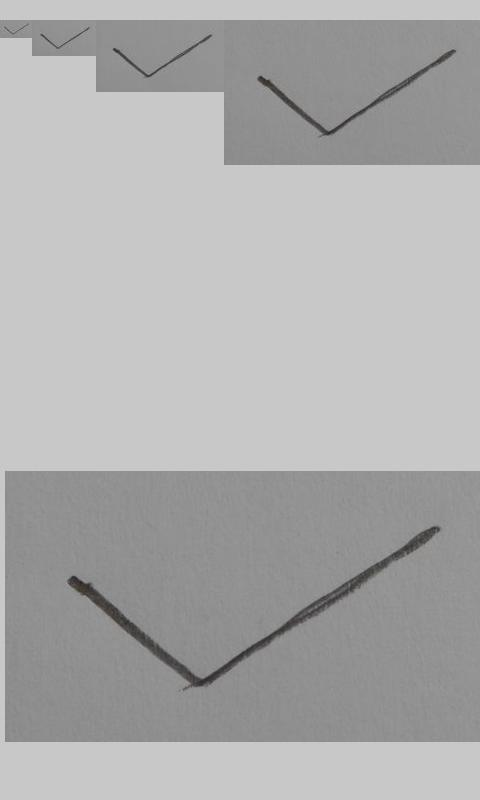check_box: (67, 526, 440, 689), (257, 49, 457, 135), (112, 34, 212, 78), (40, 27, 90, 49), (4, 23, 29, 35)
